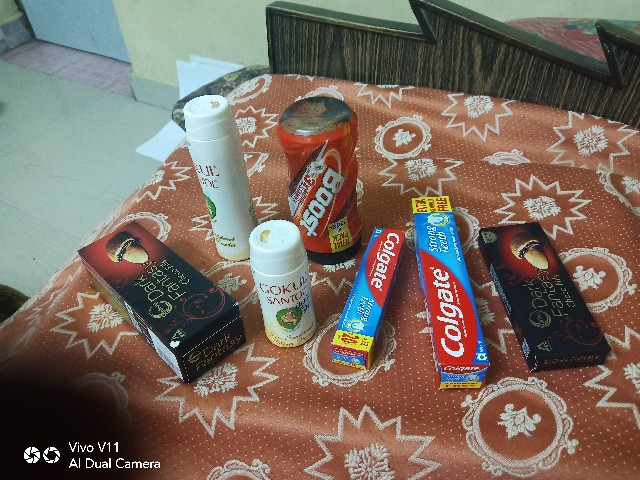boost small: (278, 86, 361, 264)
colgatetoothpaste big: (407, 186, 490, 417)
colgatetoothpaste small: (332, 222, 412, 385)
darkfantasy big: (69, 217, 244, 401)
darkfantasy small: (477, 214, 614, 396)
gokulsantol big: (183, 85, 252, 260)
gokulsantol small: (246, 216, 320, 351)
